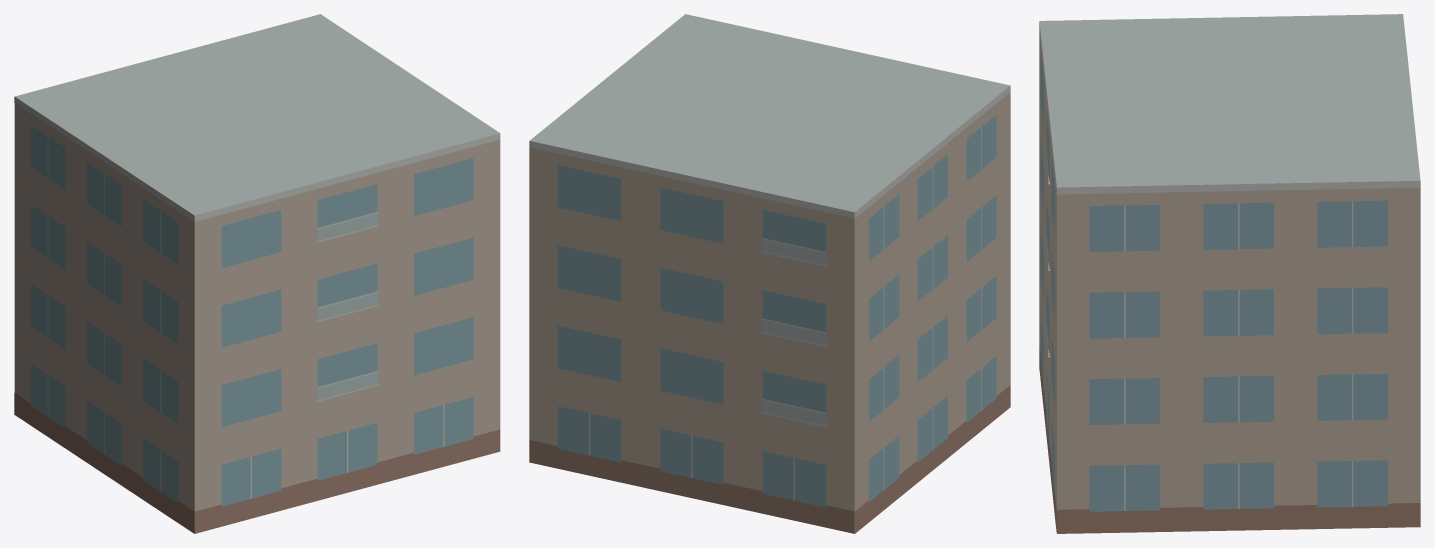
The model's file is residential-81f8f8dc-b20b-451b-bde9-d8d078719715.glb.
3 views of the same model, side by side, from view 1: azimuth 30°, elevation 25°; view 2: azimuth 150°, elevation 25°; view 3: azimuth 270°, elevation 25° (orthographic). The views are drawn at different scales.
Parts seen in each view (by area): view 1: residential-81f8f8dc-b20b-451b-bde9-d8d078719715.tmp; view 2: residential-81f8f8dc-b20b-451b-bde9-d8d078719715.tmp; view 3: residential-81f8f8dc-b20b-451b-bde9-d8d078719715.tmp.
Boxes of the visible parts, x1,y1,x2,y2 form: residential-81f8f8dc-b20b-451b-bde9-d8d078719715.tmp: (14,14,500,533); residential-81f8f8dc-b20b-451b-bde9-d8d078719715.tmp: (529,14,1010,533); residential-81f8f8dc-b20b-451b-bde9-d8d078719715.tmp: (1039,14,1420,533).
Bounding box in the file's own units: 13.12 × 12.2 × 12.18.
